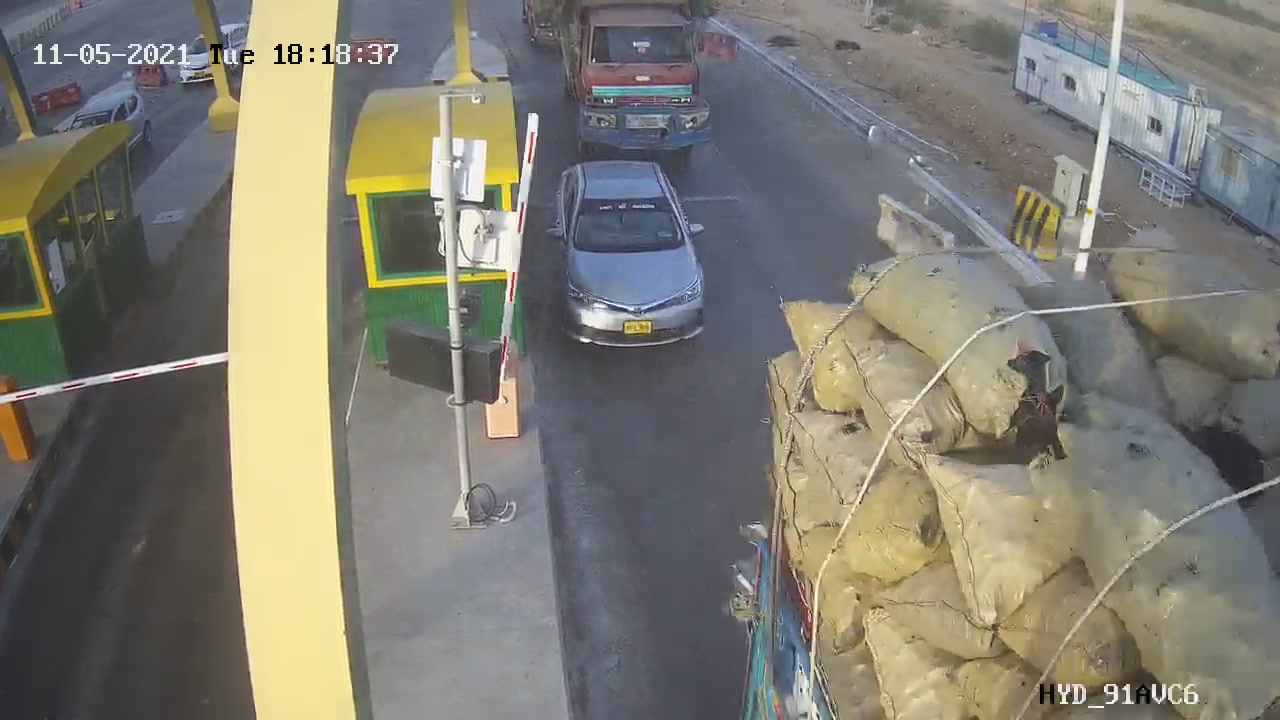F5: (534, 152, 721, 357)
